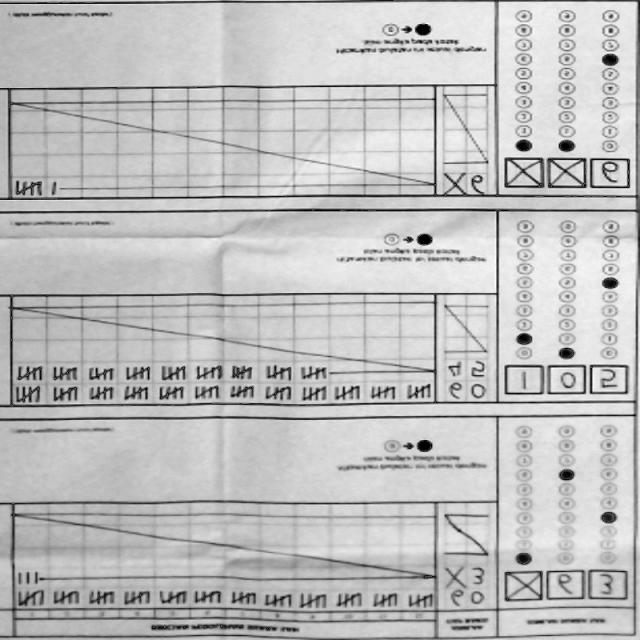Suara: (494, 567, 629, 607), (497, 154, 631, 194), (498, 362, 632, 402)
